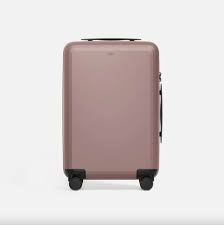suitcase: (59, 34, 168, 191)
